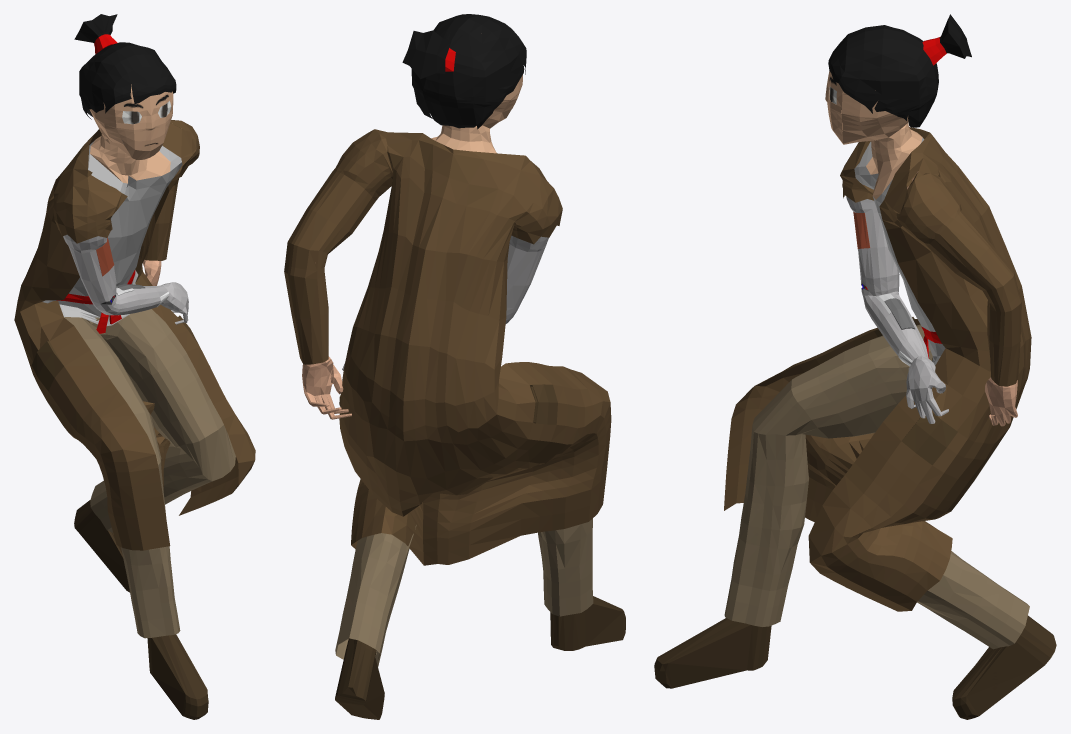
The model's file is One_DB_000006.obj.
The picture shows the model from 3 angles, left to right: view 1: azimuth 30°, elevation 25°; view 2: azimuth 150°, elevation 25°; view 3: azimuth 270°, elevation 25°; orthographic projection. The views are drawn at different scales.
Visible parts, largest first — view 1: Hair_Cube.004; view 2: Hair_Cube.004; view 3: Hair_Cube.004.
Boxes of the visible parts, x1,y1,x2,y2 form: Hair_Cube.004: (14, 14, 255, 719); Hair_Cube.004: (284, 14, 625, 719); Hair_Cube.004: (654, 14, 1056, 719).
Size of the model in its own units: 1.09 by 3.44 by 1.84.
